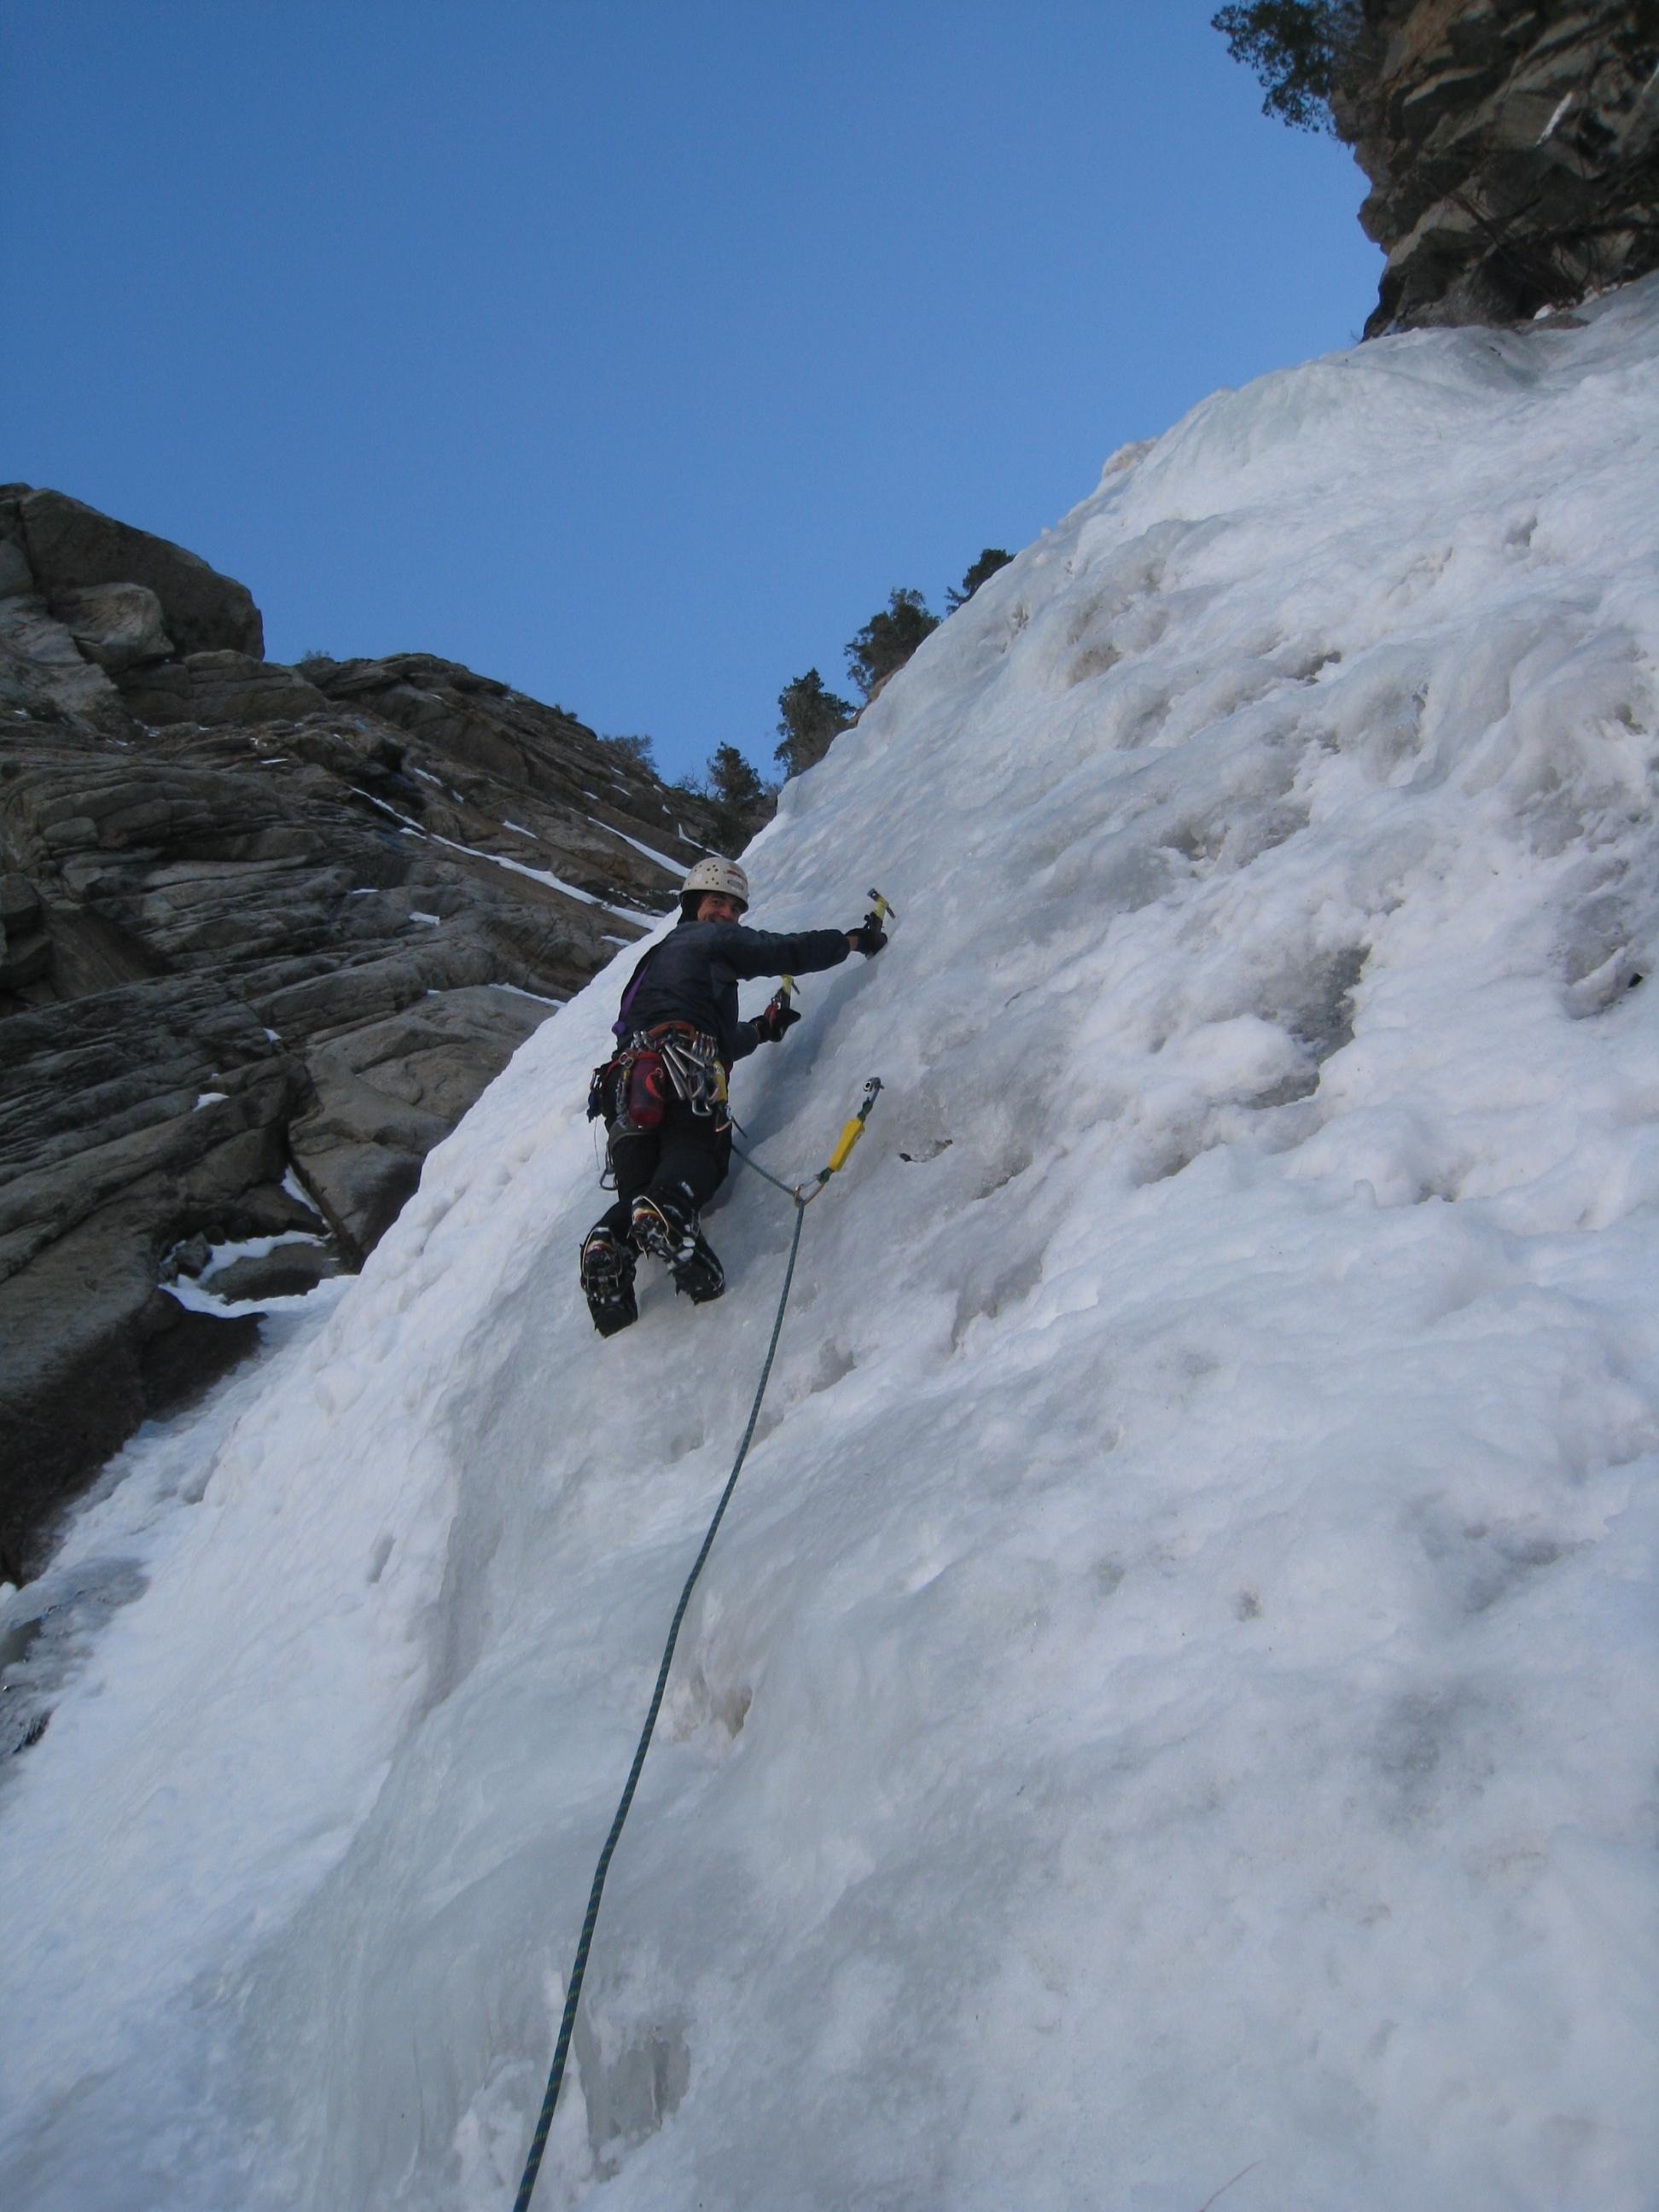helmet: (664, 843, 763, 925)
